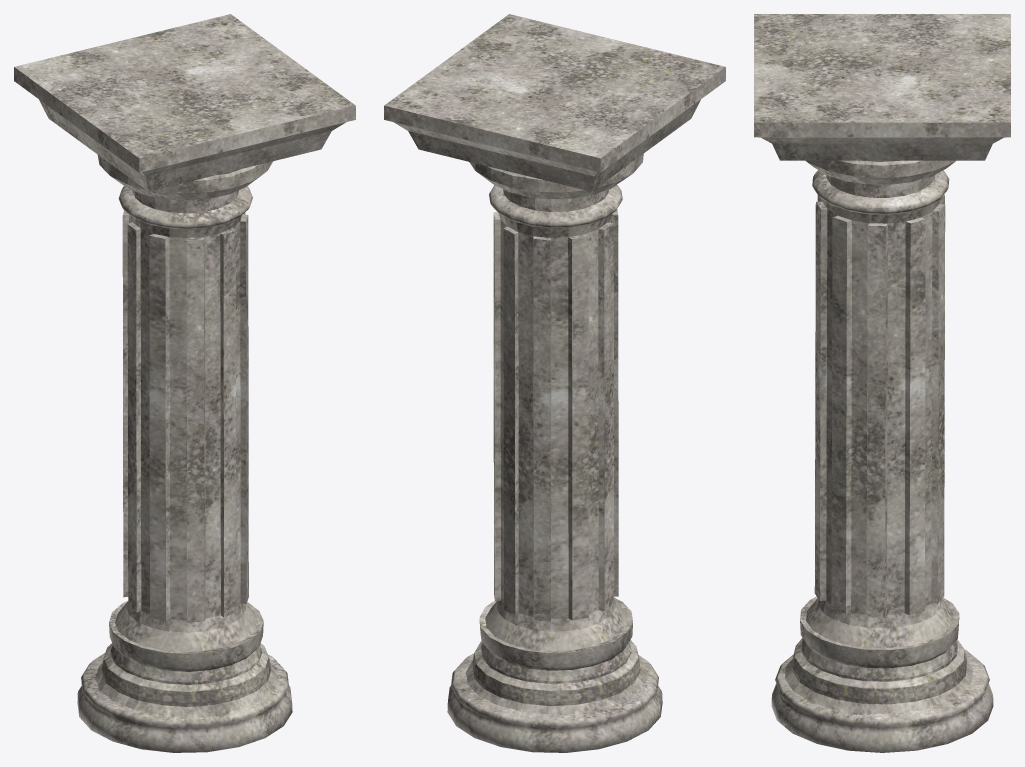
Rendered from Doric_column_texture.fbx.
3 renders of one model, left to right at view 1: azimuth 30°, elevation 25°; view 2: azimuth 150°, elevation 25°; view 3: azimuth 270°, elevation 25°, orthographic. The views are drawn at different scales.
Parts seen in each view (by area): view 1: pPlane2; view 2: pPlane2; view 3: pPlane2.
Part boxes in pixels (x1=…): pPlane2: x1=14, y1=14, x2=355, y2=752; pPlane2: x1=384, y1=14, x2=725, y2=752; pPlane2: x1=754, y1=14, x2=1010, y2=752.
Bounding box in the file's own units: 4.65 × 12.75 × 4.65.
1 material, 1 textured.
